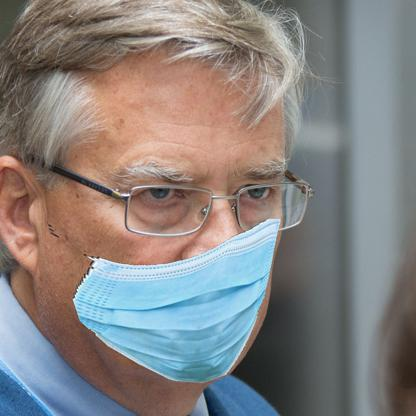mask: (77, 218, 281, 383)
